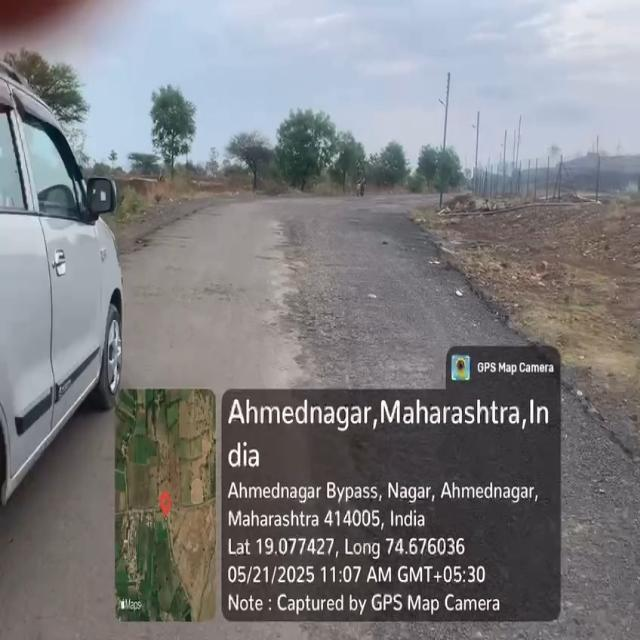damage surface: (274, 204, 318, 390)
